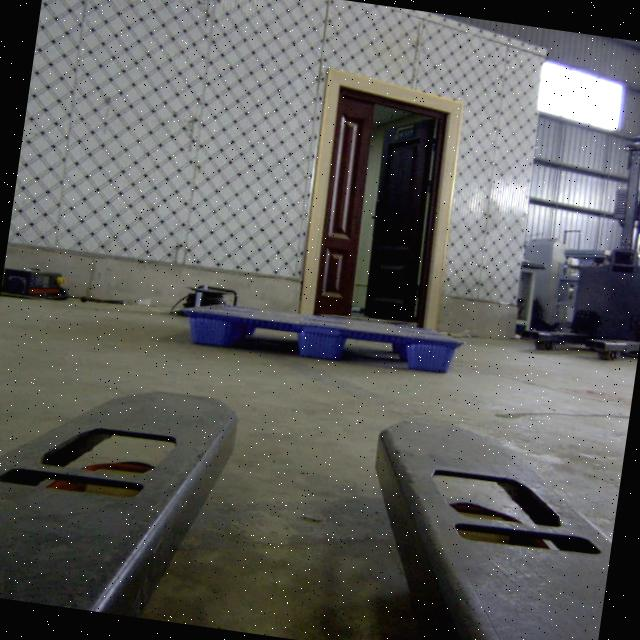block: (407, 337, 463, 373), (298, 326, 348, 360), (190, 318, 231, 352)
front: (178, 310, 464, 375)
hole pallet: (223, 323, 300, 355), (337, 336, 408, 368)
